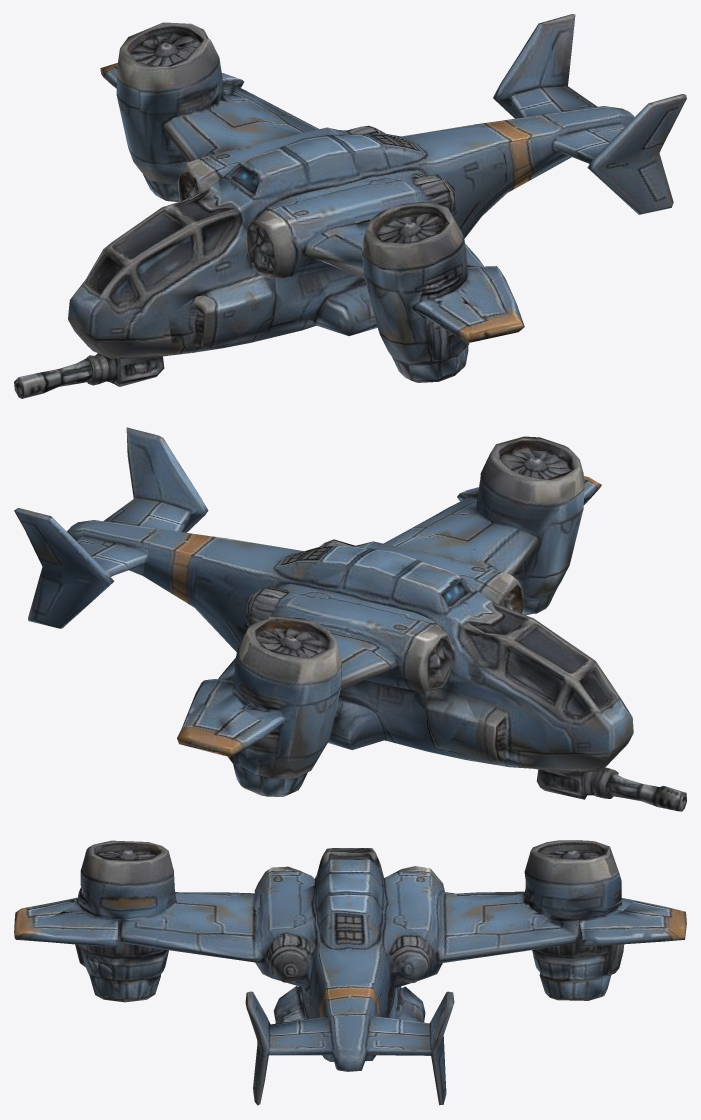
Rendered from flyer.glb.
3 views of the same model, one above another, from view 1: azimuth 30°, elevation 25°; view 2: azimuth 150°, elevation 25°; view 3: azimuth 270°, elevation 25° (orthographic). The views are drawn at different scales.
Visible parts, largest first — view 1: human-flyer; view 2: human-flyer; view 3: human-flyer.
Boxes of the visible parts, <box> form: human-flyer: <box>14,14,686,398</box>; human-flyer: <box>14,427,686,811</box>; human-flyer: <box>14,840,686,1105</box>.
Bounding box in the file's own units: 2.21 × 0.7262 × 2.3.
1 material, 1 textured.
